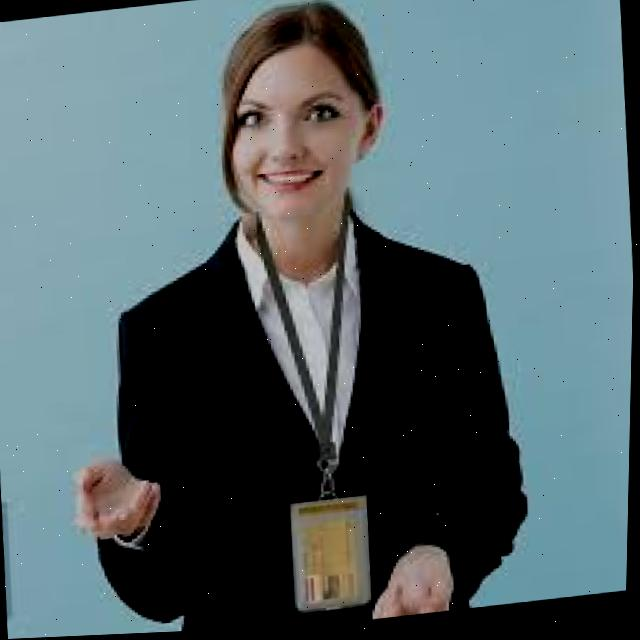id_card: (243, 216, 407, 625)
